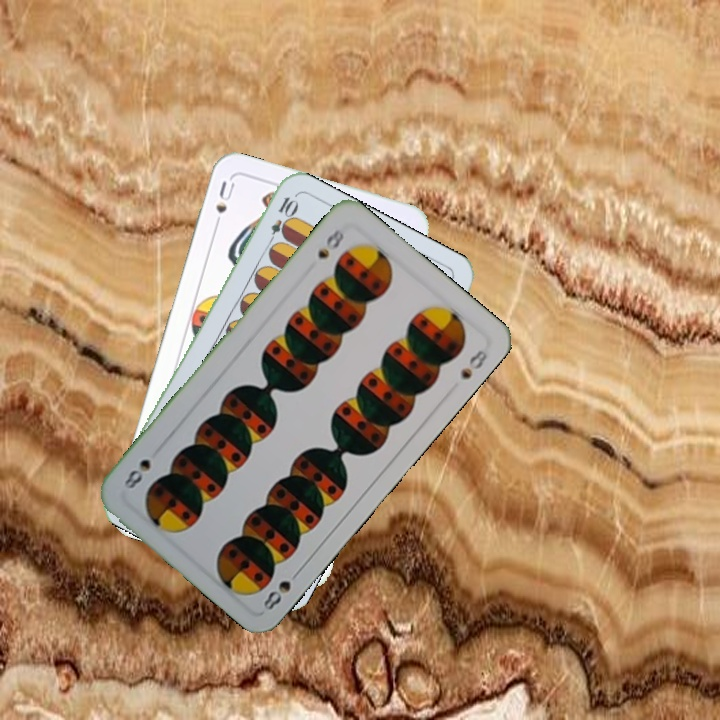E10: (263, 192, 299, 250)
S8: (259, 564, 304, 613), (313, 224, 351, 262)
SU: (210, 177, 238, 233)
